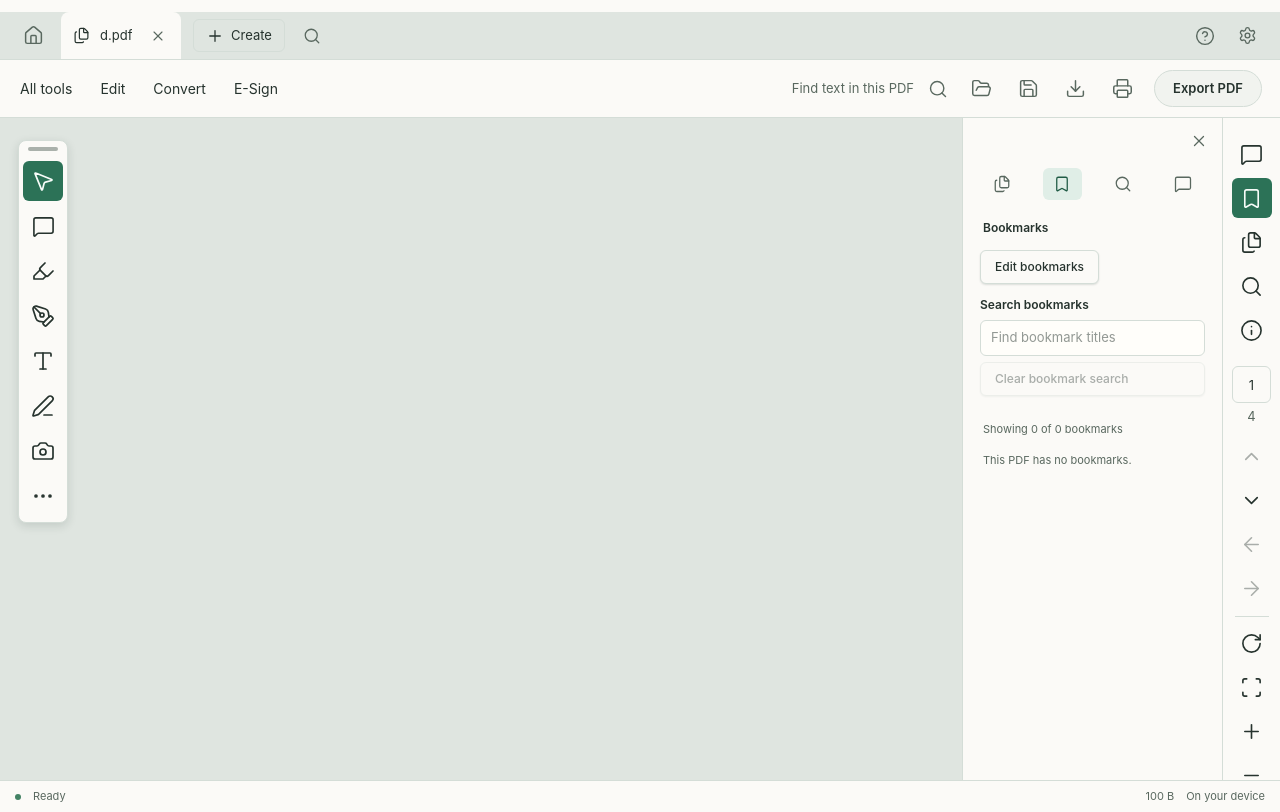
App shell › renders sidebar and properties with a document
expect the text "This PDF has no bookmarks." is shown: met, box [983,453,1132,467]
expect the text "Doc" is not shown: met
Click the button named "Show document properties" at (1252, 330), box [1232,310,1272,350]
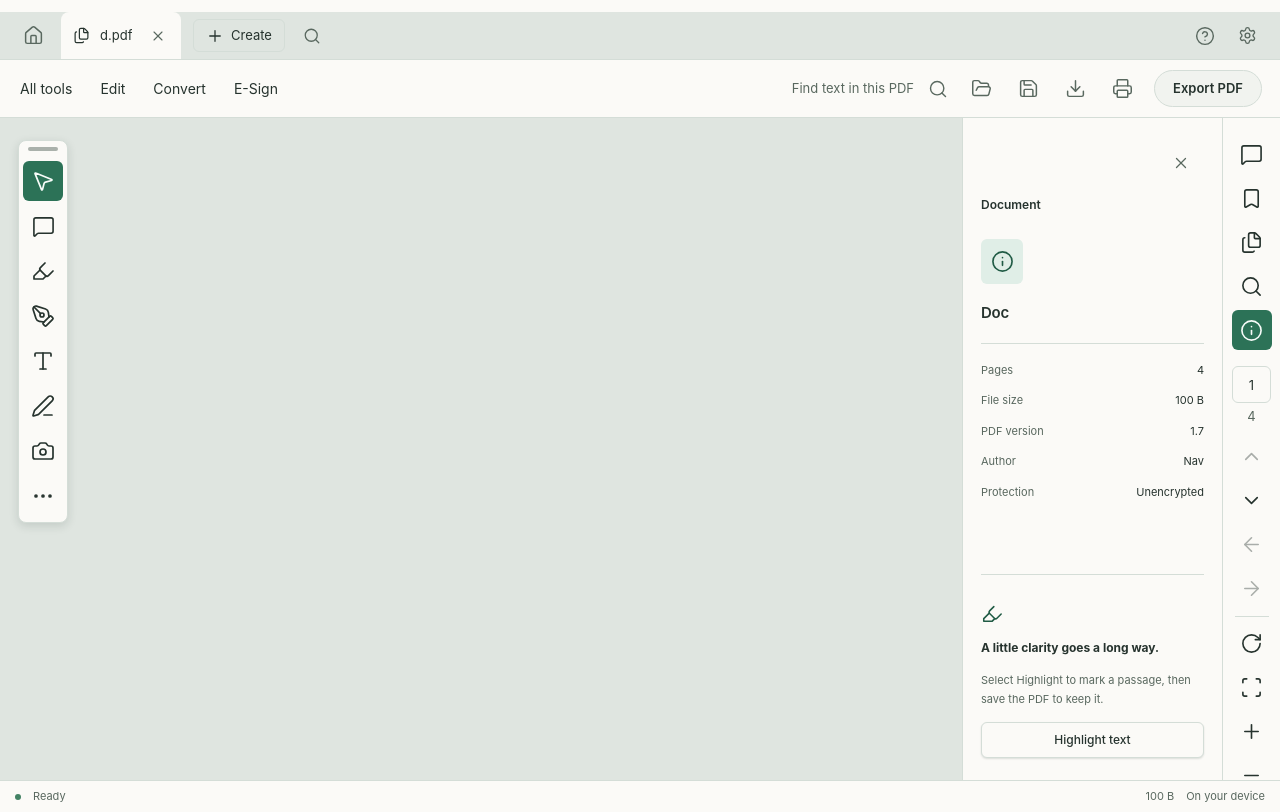
expect the heading "Doc" is shown: met, box [981,303,1009,322]
